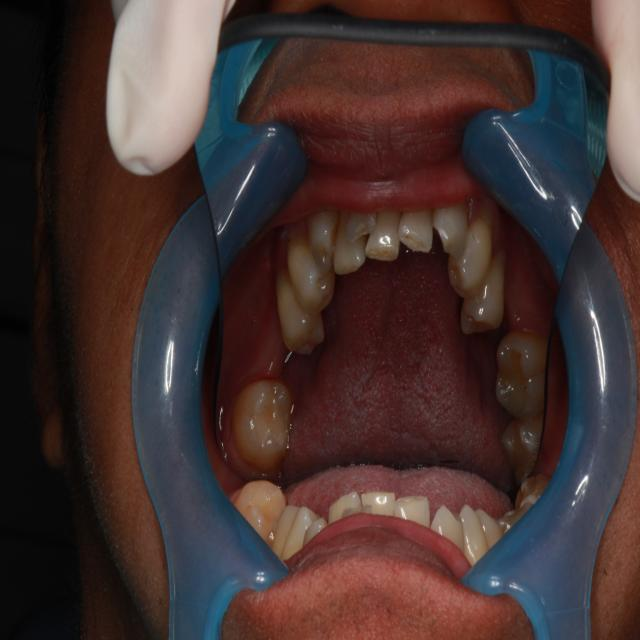tooth: (230, 373, 296, 472), (490, 323, 549, 417), (272, 266, 329, 359), (442, 212, 498, 304), (459, 243, 511, 340), (285, 231, 337, 318), (499, 412, 547, 487), (303, 210, 344, 275), (429, 199, 470, 262), (332, 208, 368, 278), (364, 207, 402, 265), (398, 207, 438, 258), (343, 206, 380, 246)
